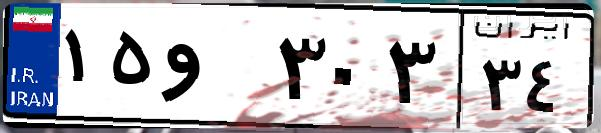0: (330, 28, 385, 110)
1: (57, 26, 110, 100)
3: (270, 28, 330, 110), (385, 28, 445, 110), (475, 38, 525, 113)
4: (525, 38, 570, 115)
5: (110, 28, 158, 98)
و: (158, 20, 270, 120)
